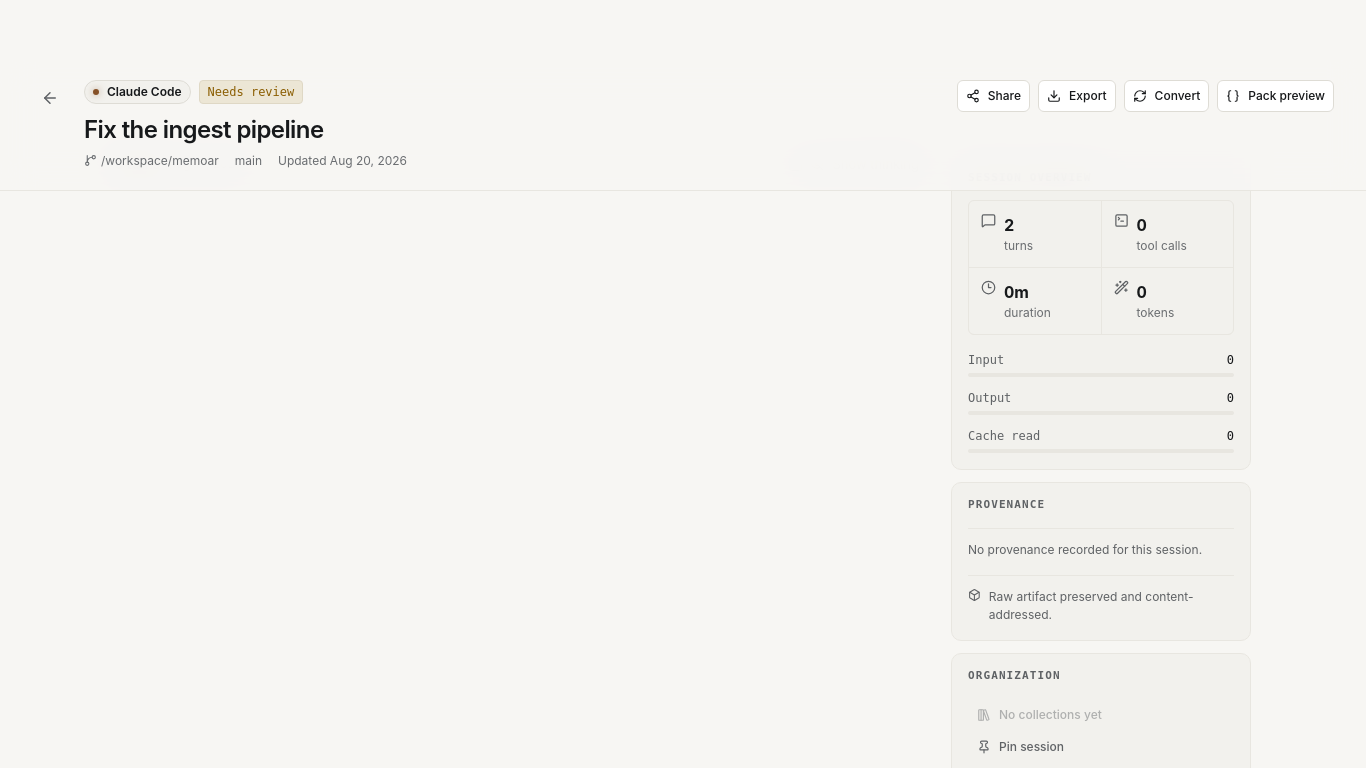
Scenario: redaction review before sharing › says plainly when the scan flagged nothing
The image size is (1366, 768).
Click the button "Share": (993,96) [957,80,1030,112]
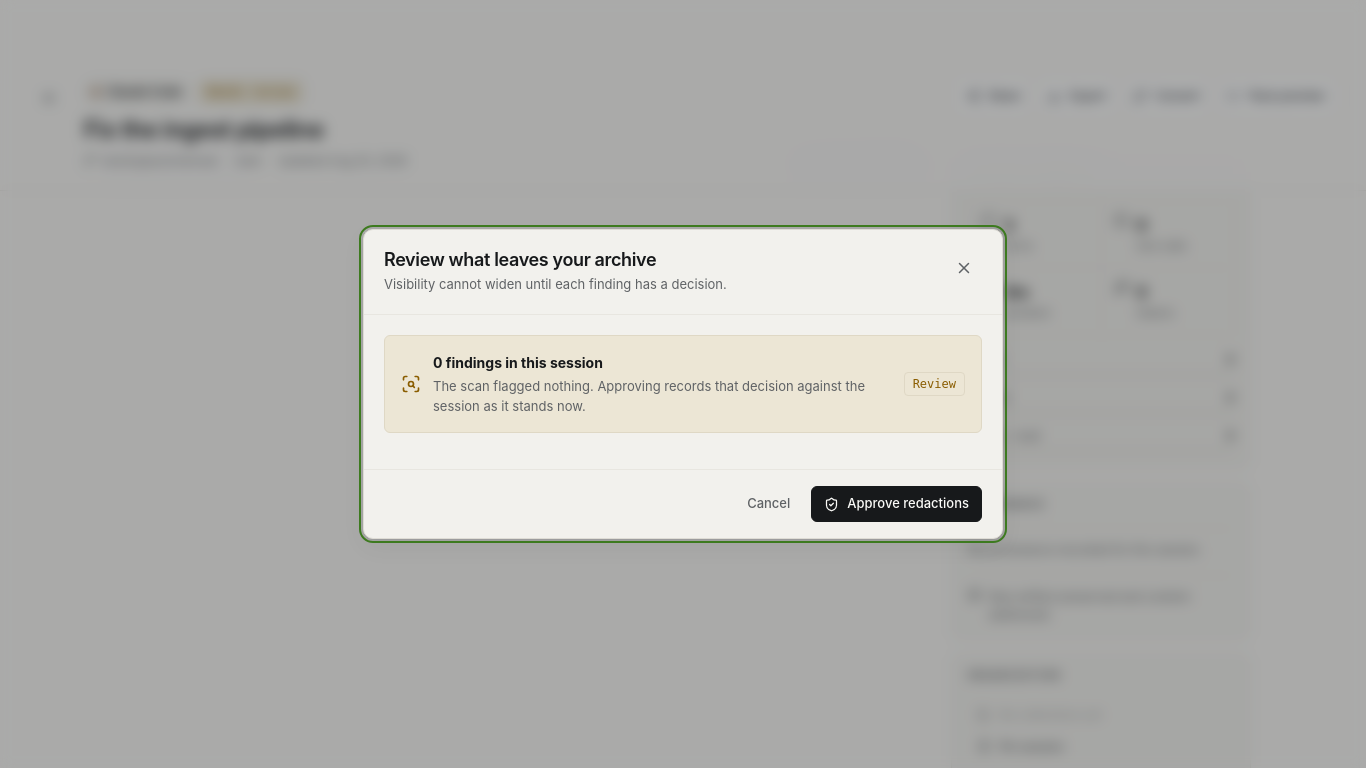
Result: the text "0 findings in this session" is shown at [433,354,603,371]
Result: the text "flagged nothing" is shown at [433,378,865,414]
